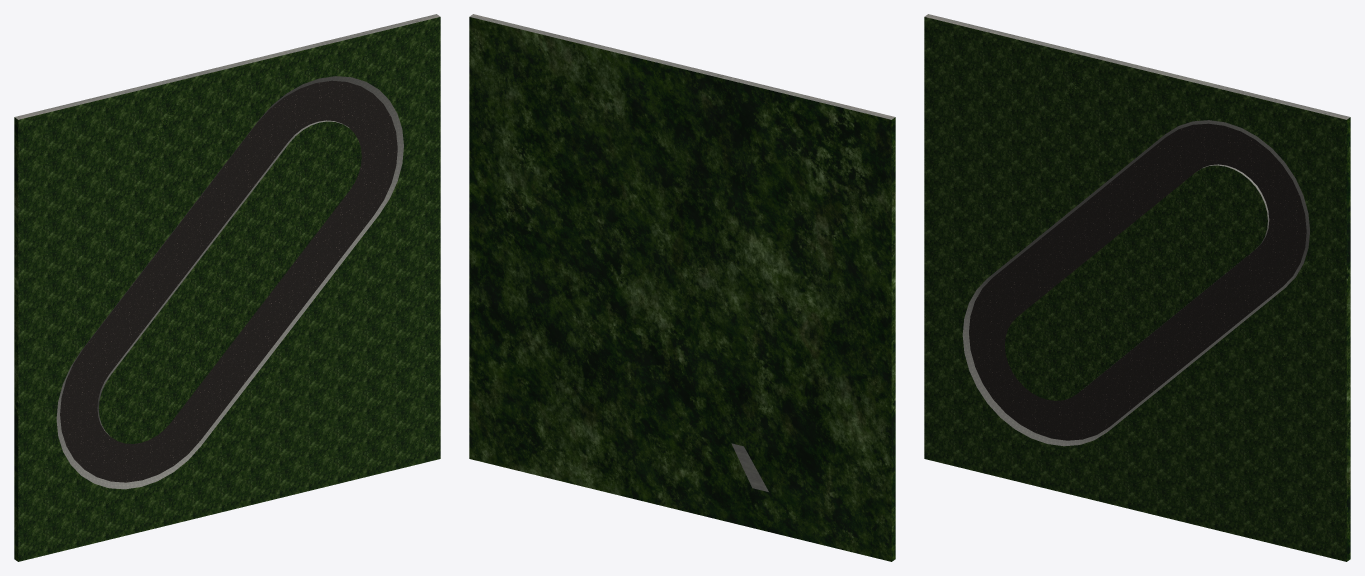
Rendered from oval-track.obj.
The picture shows the model from 3 angles, left to right: view 1: azimuth 30°, elevation 25°; view 2: azimuth 150°, elevation 25°; view 3: azimuth 330°, elevation 25°; orthographic projection.
Visible parts, largest first — view 1: Box001; view 2: Box001; view 3: Box001.
Part boxes in pixels (left/top/right/bottom): Box001: left=14, top=14, right=440, bottom=561; Box001: left=469, top=14, right=895, bottom=561; Box001: left=924, top=14, right=1350, bottom=561.
Size of the model in its own units: 19685 by 19685 by 312.
